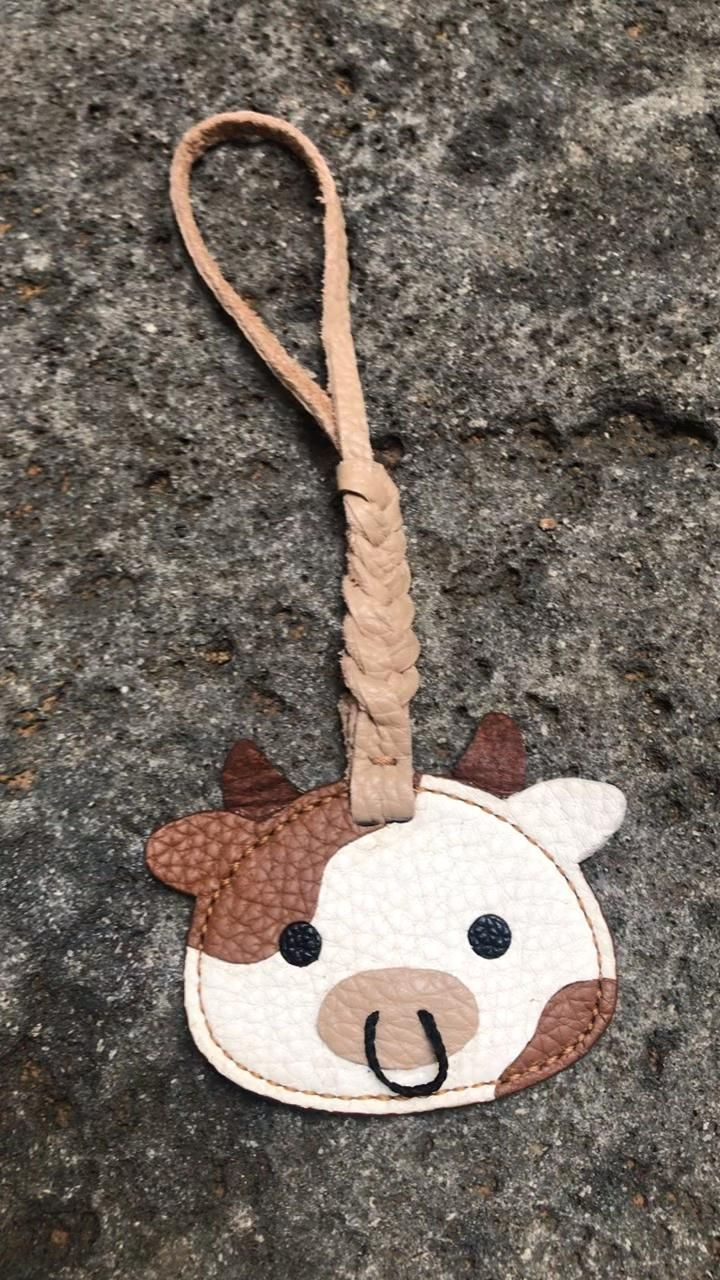cuero: (142, 111, 631, 1116)
